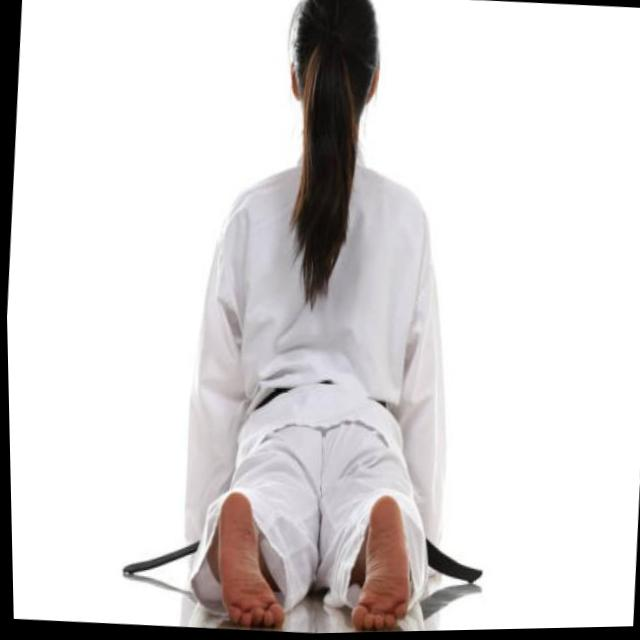no helmet: (274, 0, 387, 176)
